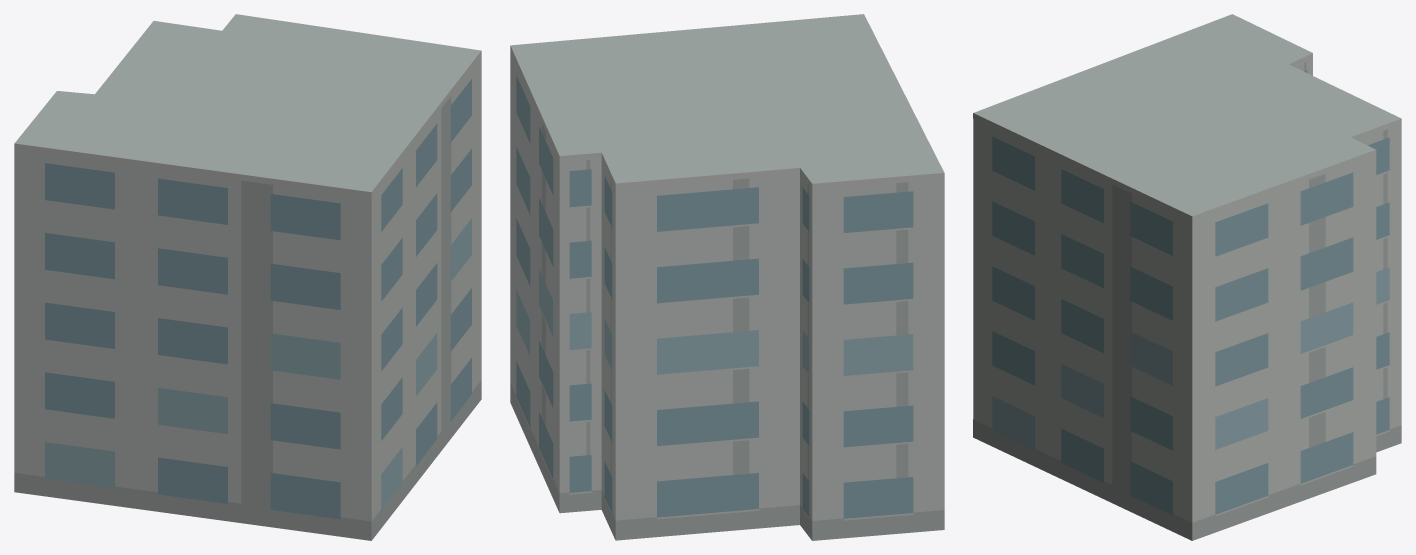
File: survey-upis-32824416.glb
3 renders of one model, left to right at view 1: azimuth 30°, elevation 25°; view 2: azimuth 150°, elevation 25°; view 3: azimuth 270°, elevation 25°, orthographic. The views are drawn at different scales.
Visible parts, largest first — view 1: survey-upis-32824416.tmp; view 2: survey-upis-32824416.tmp; view 3: survey-upis-32824416.tmp.
Part boxes in pixels (left/top/right/bottom): survey-upis-32824416.tmp: left=14, top=14, right=481, bottom=540; survey-upis-32824416.tmp: left=510, top=14, right=944, bottom=540; survey-upis-32824416.tmp: left=973, top=14, right=1401, bottom=540.
Bounding box in the file's own units: 18.59 × 13.9 × 16.64.
